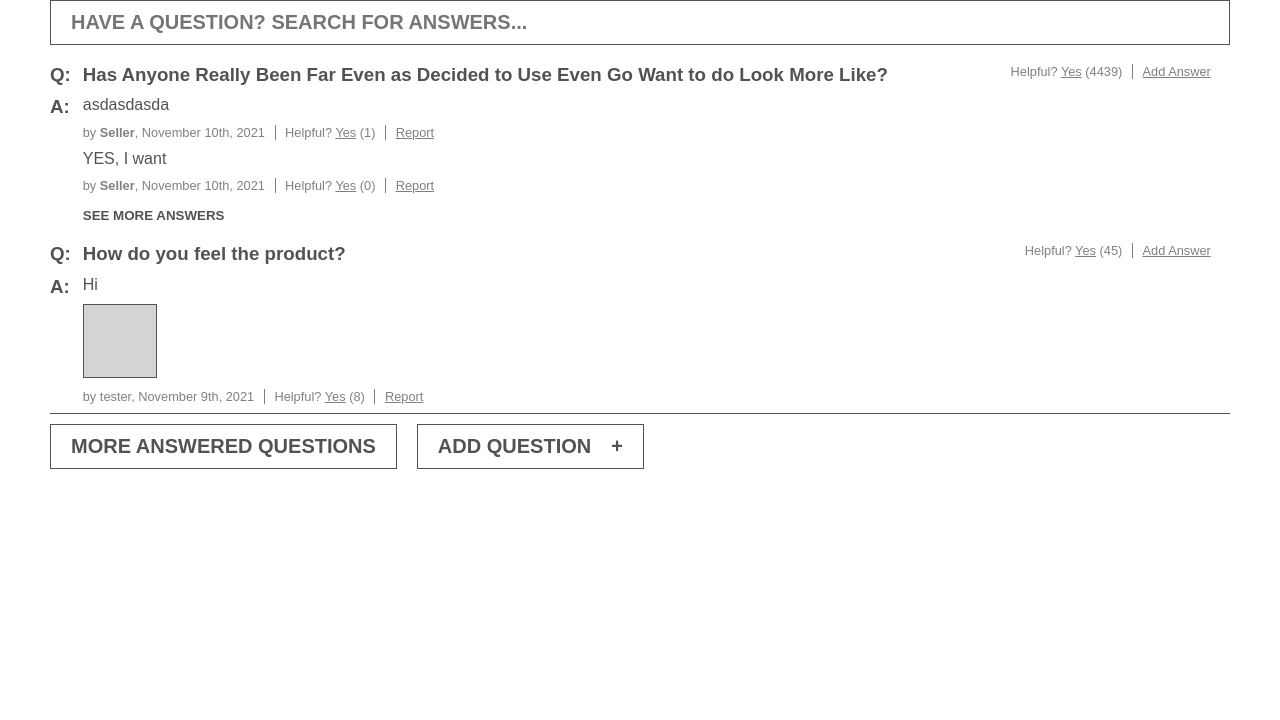
Test: displays a modal
The image size is (1280, 720).
Click the button "Add Question +" at (530, 446), box 417,424 -> 644,469
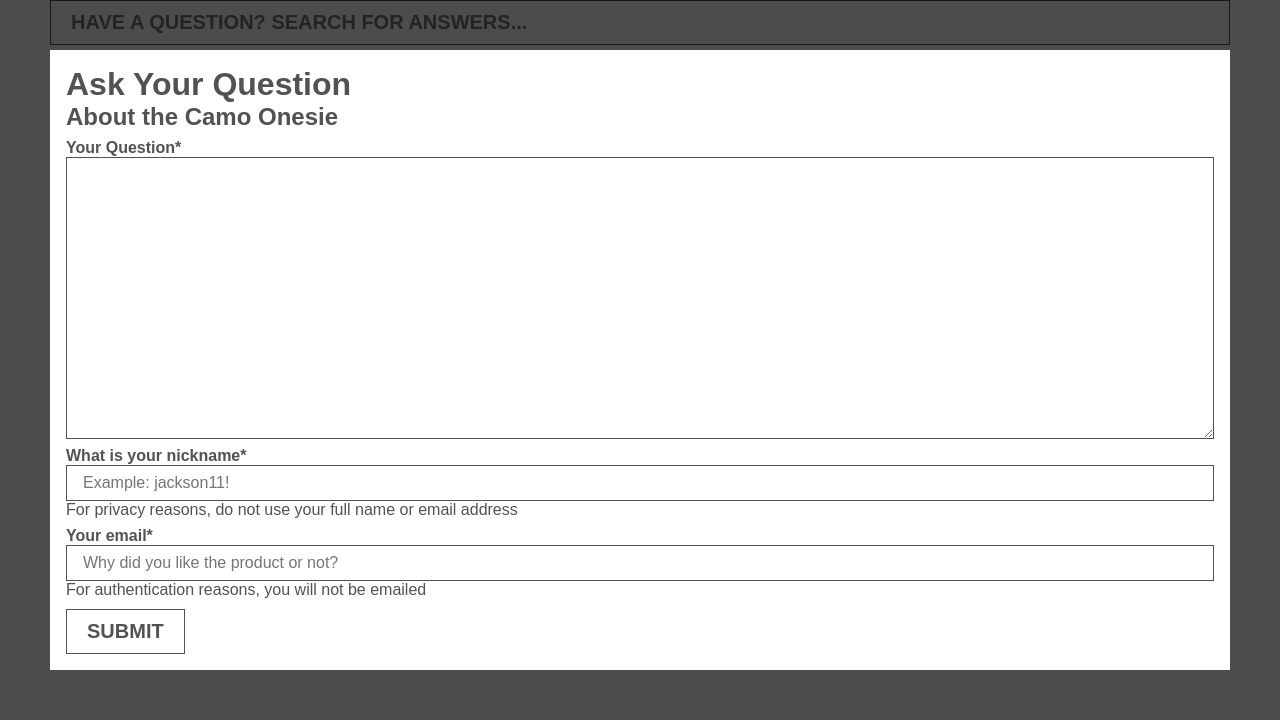
Now the dialog is shown
